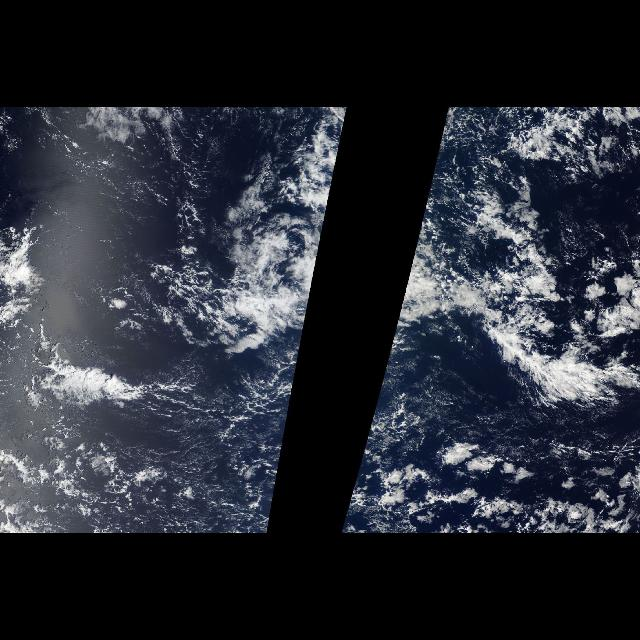Fish: (397, 272, 609, 418)
Sugar: (1, 387, 296, 533)
